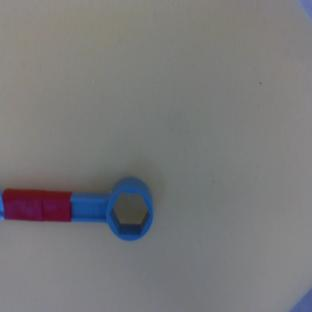part_3_good: (0, 177, 155, 248)
